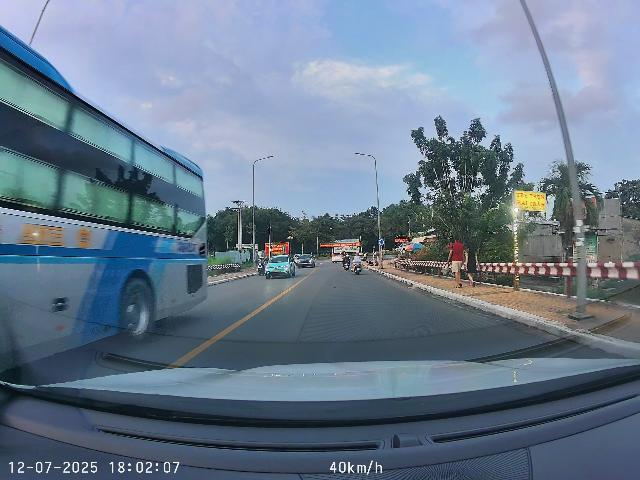303-noi-giao-nhau-chay-theo-vong-xuyen: (378, 238, 385, 246)
